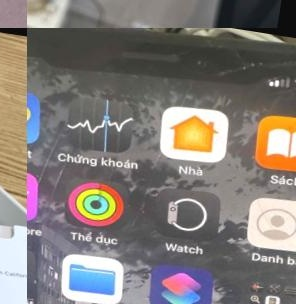physical_damage: (182, 28, 296, 159)
